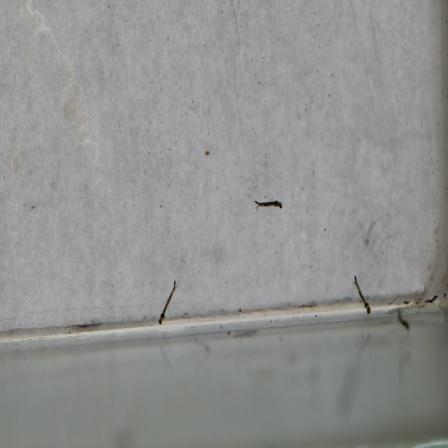Jentik-Nyamuk: (156, 277, 180, 328), (352, 274, 373, 318), (252, 194, 284, 215)
